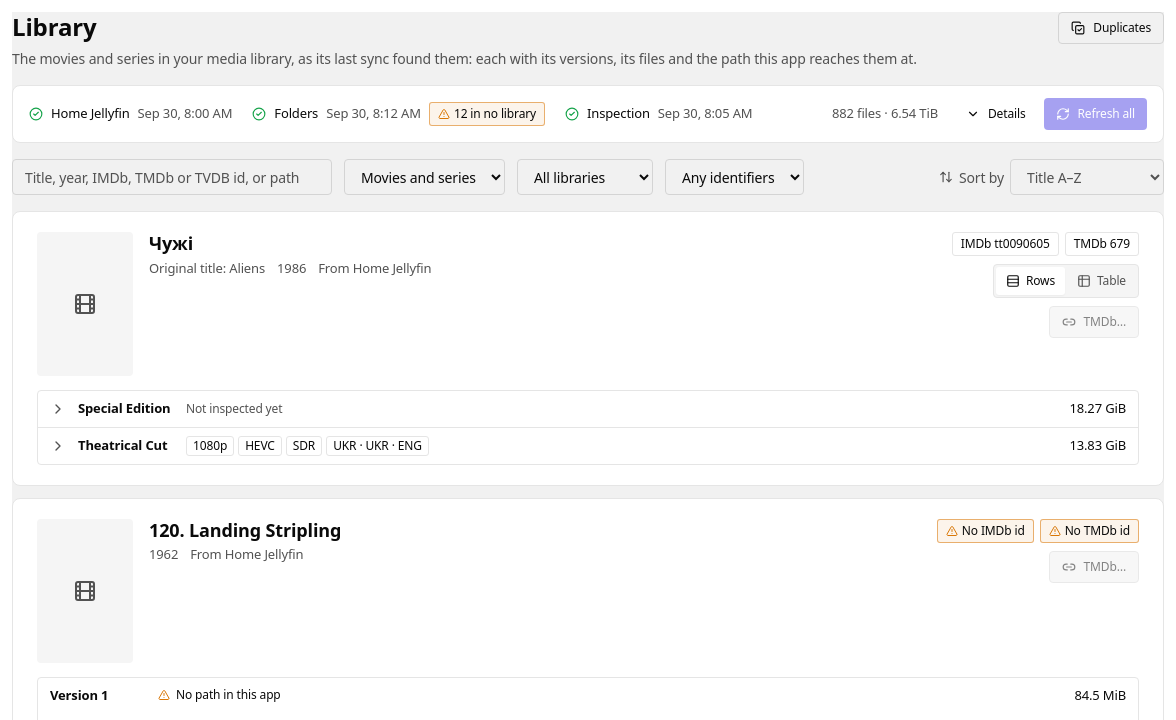
Test: LibraryPage TMDb links › shows a member the entry disabled with the reason
Select "Missing an id" in the dropdown named "Identifiers": (734, 177) [665,159,804,195]
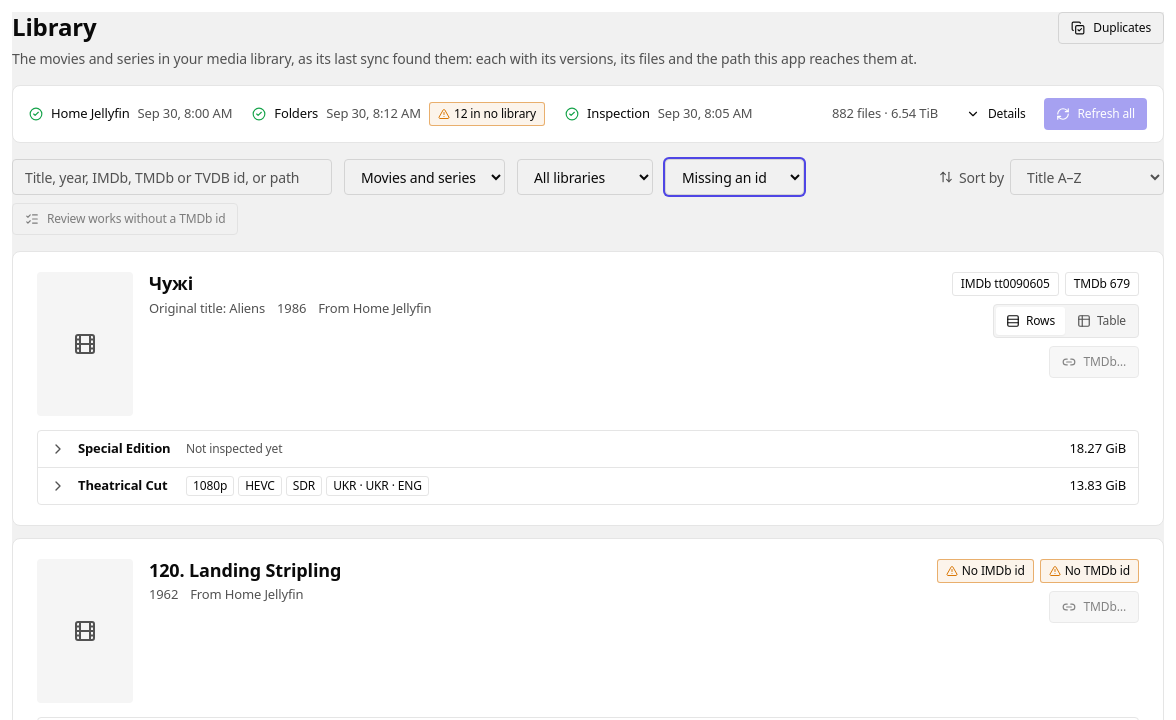
Expected: the button "Review works without a TMDb id" is disabled, [12,203,238,235]
